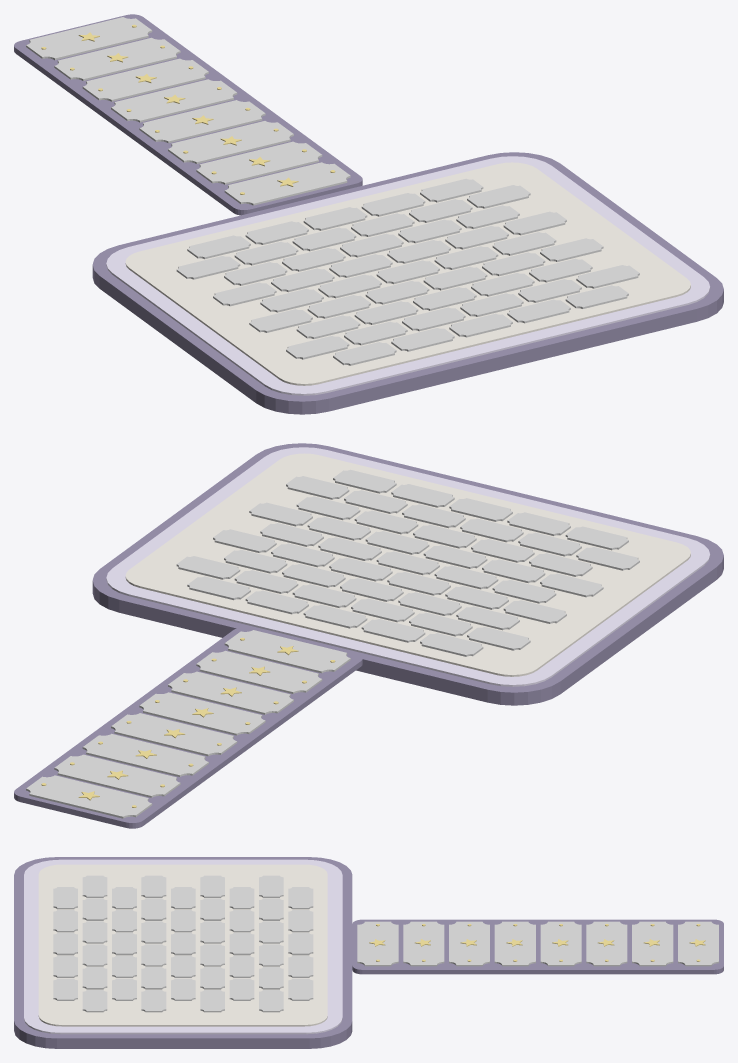
File: ArcadeTicketFloor.glb
3 renders of one model, top to bottom at view 1: azimuth 30°, elevation 25°; view 2: azimuth 150°, elevation 25°; view 3: azimuth 270°, elevation 25°, orthographic. The views are drawn at different scales.
Parts seen in each view (by area): view 1: Grout, Rim, TicketB, TicketA, TicketC, Band, Stars; view 2: Grout, TicketB, Rim, TicketA, TicketC, Band, Stars; view 3: Grout, Rim, TicketB, TicketA, TicketC, Band, Stars.
Boxes of the visible parts, x1,y1,x2,y2 form: Grout: (125,162,690,385); Rim: (14,14,723,414); TicketB: (54,37,628,359); TicketA: (26,17,639,365); TicketC: (82,58,592,345); Band: (106,156,710,395); Stars: (41,24,335,194); Grout: (125,453,690,676); TicketB: (54,469,639,797); Rim: (14,443,723,828); TicketA: (26,476,628,818); TicketC: (82,490,603,776); Band: (106,447,710,686); Stars: (41,637,335,807); Grout: (38,864,327,1026); Rim: (14,857,723,1048); TicketB: (53,875,673,1012); TicketA: (53,875,718,1012); TicketC: (53,875,627,1012); Band: (24,859,342,1034); Stars: (369,924,705,961).
Bounding box in the file's own units: 26 × 1.05 × 43.
